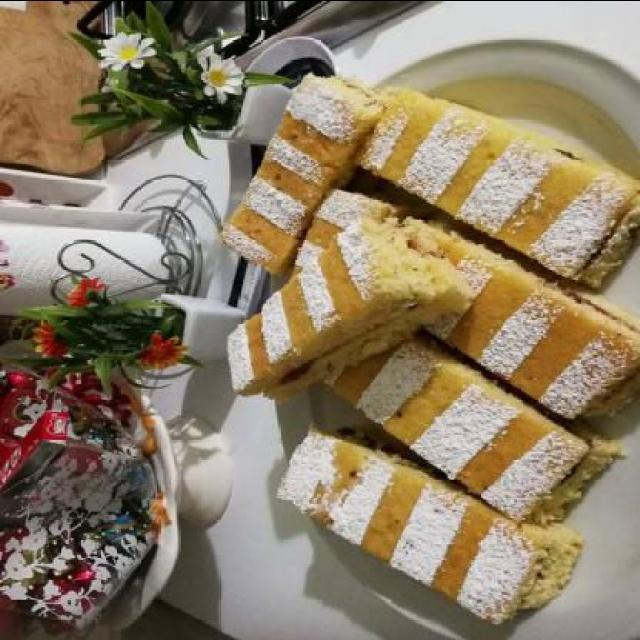Merendine packaged: (279, 434, 630, 614), (355, 86, 639, 270), (227, 223, 451, 397), (218, 68, 386, 266)
